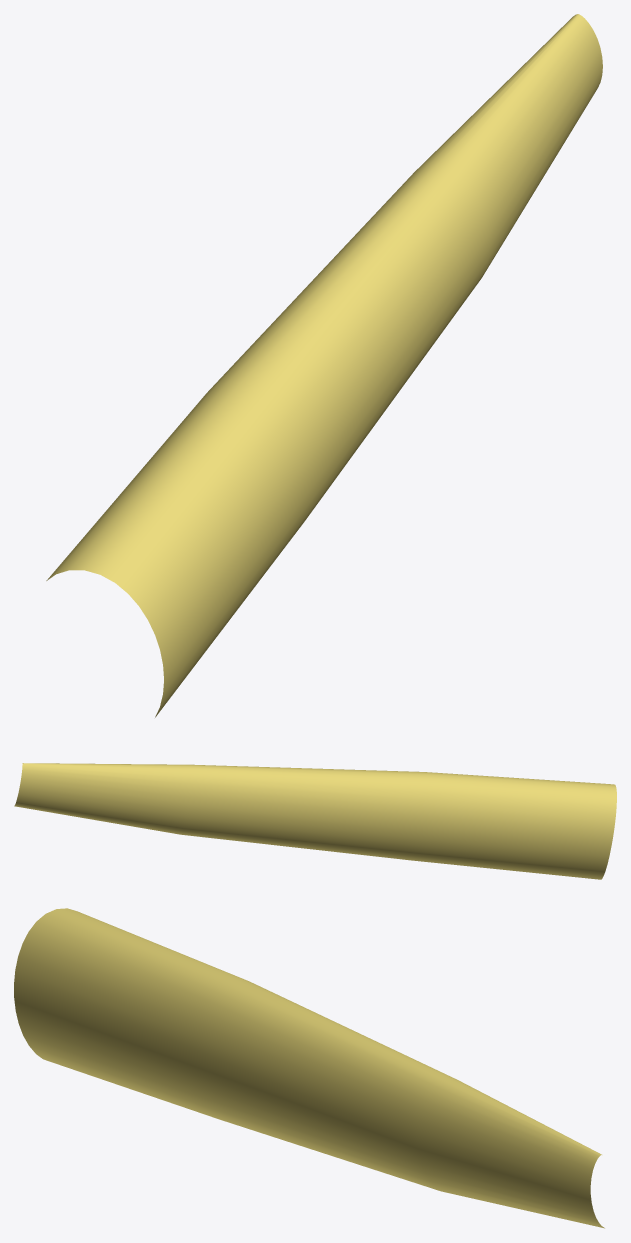
File: auditory-tube-l.glb
3 views of the same model, one above another, from view 1: azimuth 30°, elevation 25°; view 2: azimuth 150°, elevation 25°; view 3: azimuth 270°, elevation 25° (orthographic). The views are drawn at different scales.
Visible parts, largest first — view 1: Auditory tube.l; view 2: Auditory tube.l; view 3: Auditory tube.l.
Part boxes in pixels (x1,y1,x2,y2): Auditory tube.l: [46, 14, 602, 717]; Auditory tube.l: [14, 763, 616, 879]; Auditory tube.l: [14, 908, 604, 1228].
Size of the model in its own units: 0.0203 by 0.00591 by 0.0153.
